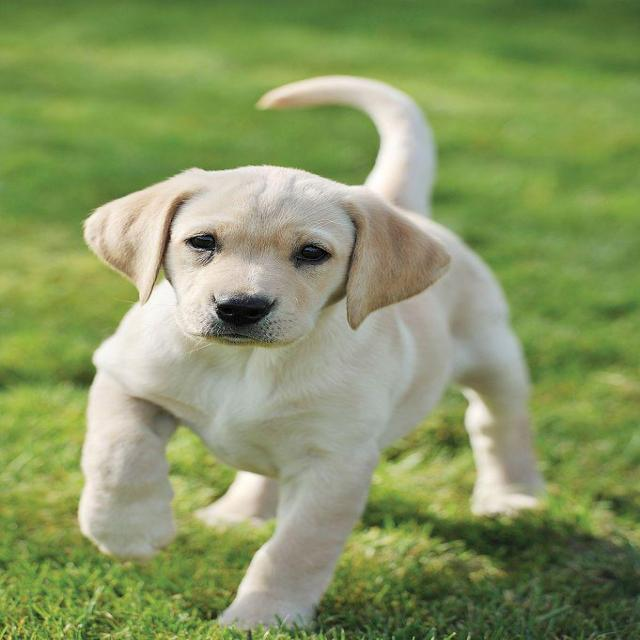Dog: (66, 159, 471, 359)
